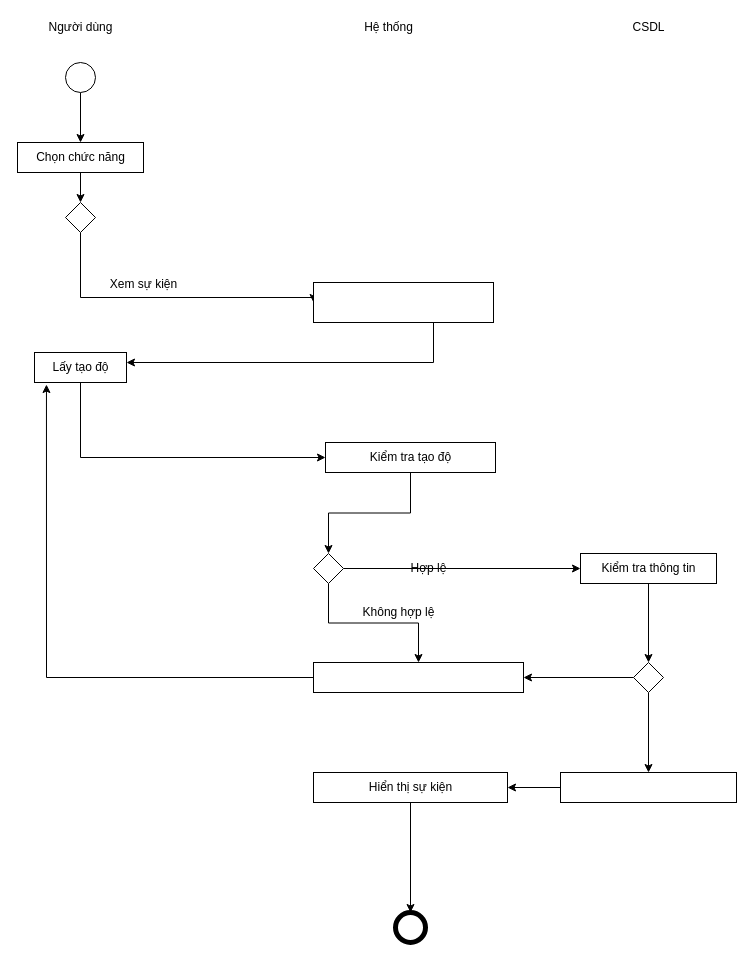
This 754x962 diagram has some shape labels left out. The shapes that lost their labels are listed below. From the top down, each one's centre as x and y in pixels, then its label:
the point at 403,302: Hiển thị trang xem sự kiện
the point at 418,677: Thông báp thông tin sai
the point at 648,787: Lấy sự kiện
